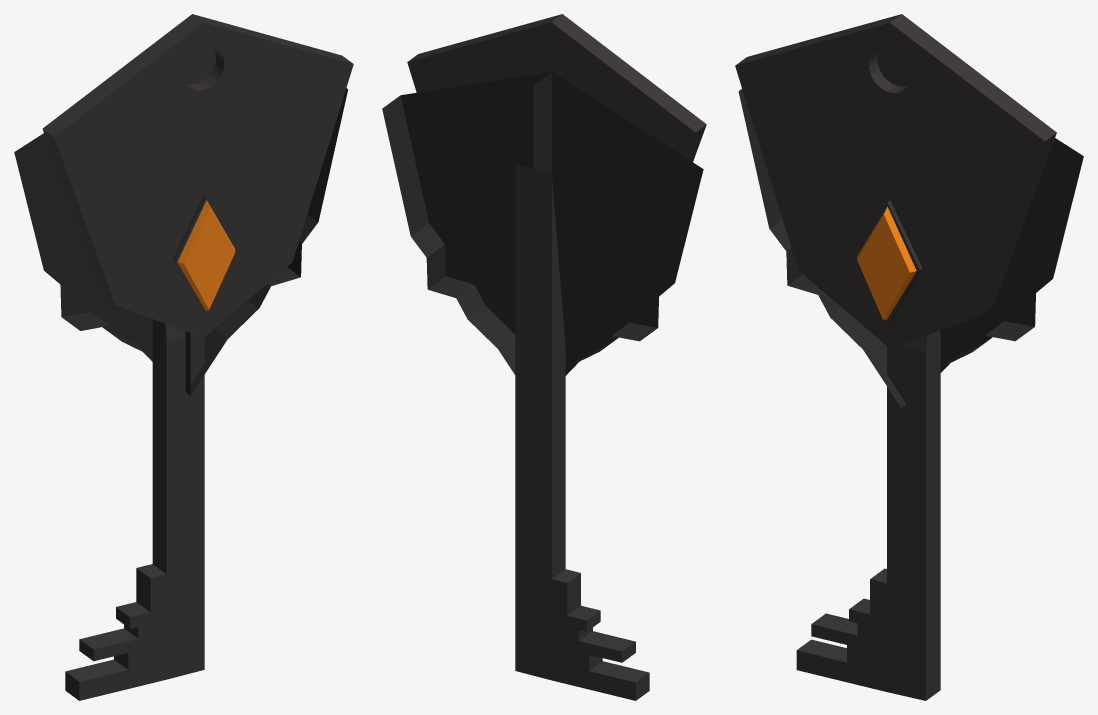
File: key.glb
The picture shows the model from 3 angles, left to right: view 1: azimuth 30°, elevation 25°; view 2: azimuth 150°, elevation 25°; view 3: azimuth 330°, elevation 25°; orthographic projection. The views are drawn at different scales.
Visible parts, largest first — view 1: KeyDeco, key, KeyBody, KeyDiamon; view 2: KeyBody, key, KeyDeco; view 3: KeyDeco, key, KeyBody, KeyDiamon.
Boxes of the visible parts, box(x1,y1,x2,y2) form: KeyDeco: box(42, 14, 353, 337); key: box(65, 319, 204, 700); KeyBody: box(14, 88, 347, 395); KeyDiamon: box(177, 200, 235, 310); KeyBody: box(382, 72, 703, 375); key: box(515, 164, 649, 700); KeyDeco: box(407, 14, 706, 161); KeyDeco: box(735, 14, 1056, 348); key: box(796, 330, 940, 700); KeyBody: box(738, 89, 1083, 407); KeyDiamon: box(857, 206, 916, 320).
Size of the model in its own units: 2.38 by 4.81 by 0.4909.
